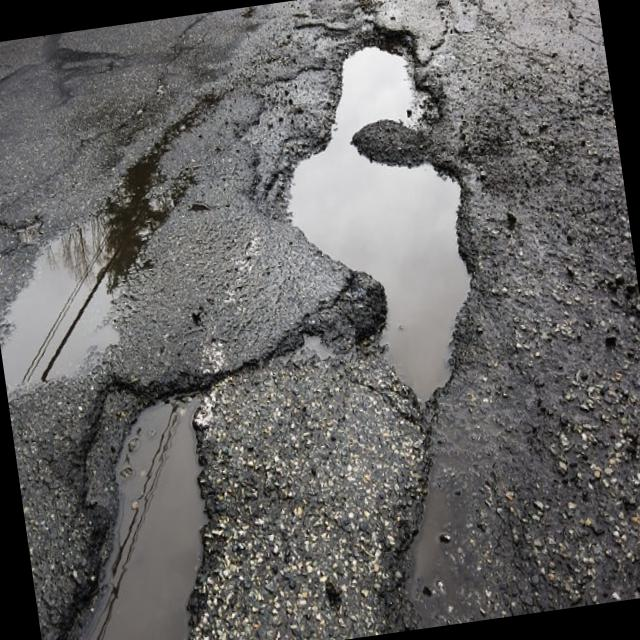Potholes: (247, 14, 519, 412), (27, 369, 281, 640), (0, 109, 234, 401)
